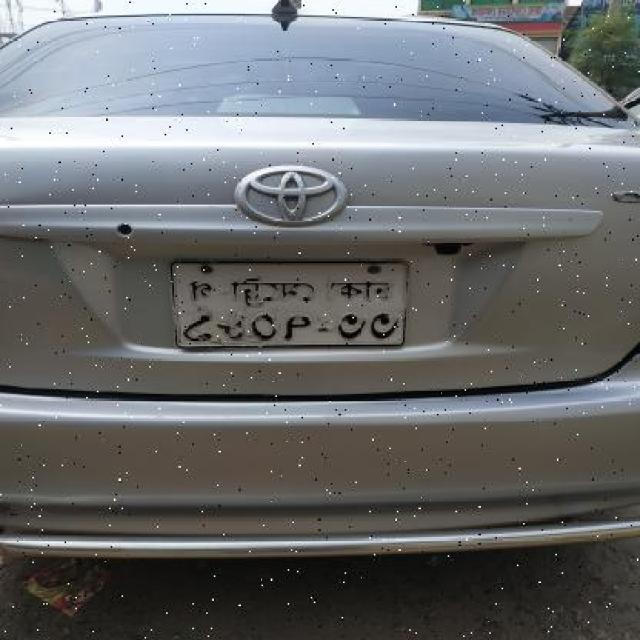numberplate: (169, 257, 409, 349)
